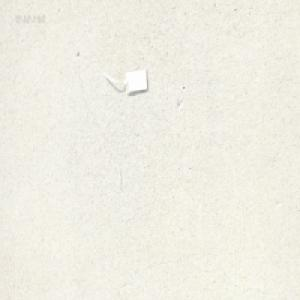LuggageTag: (101, 64, 150, 95)
